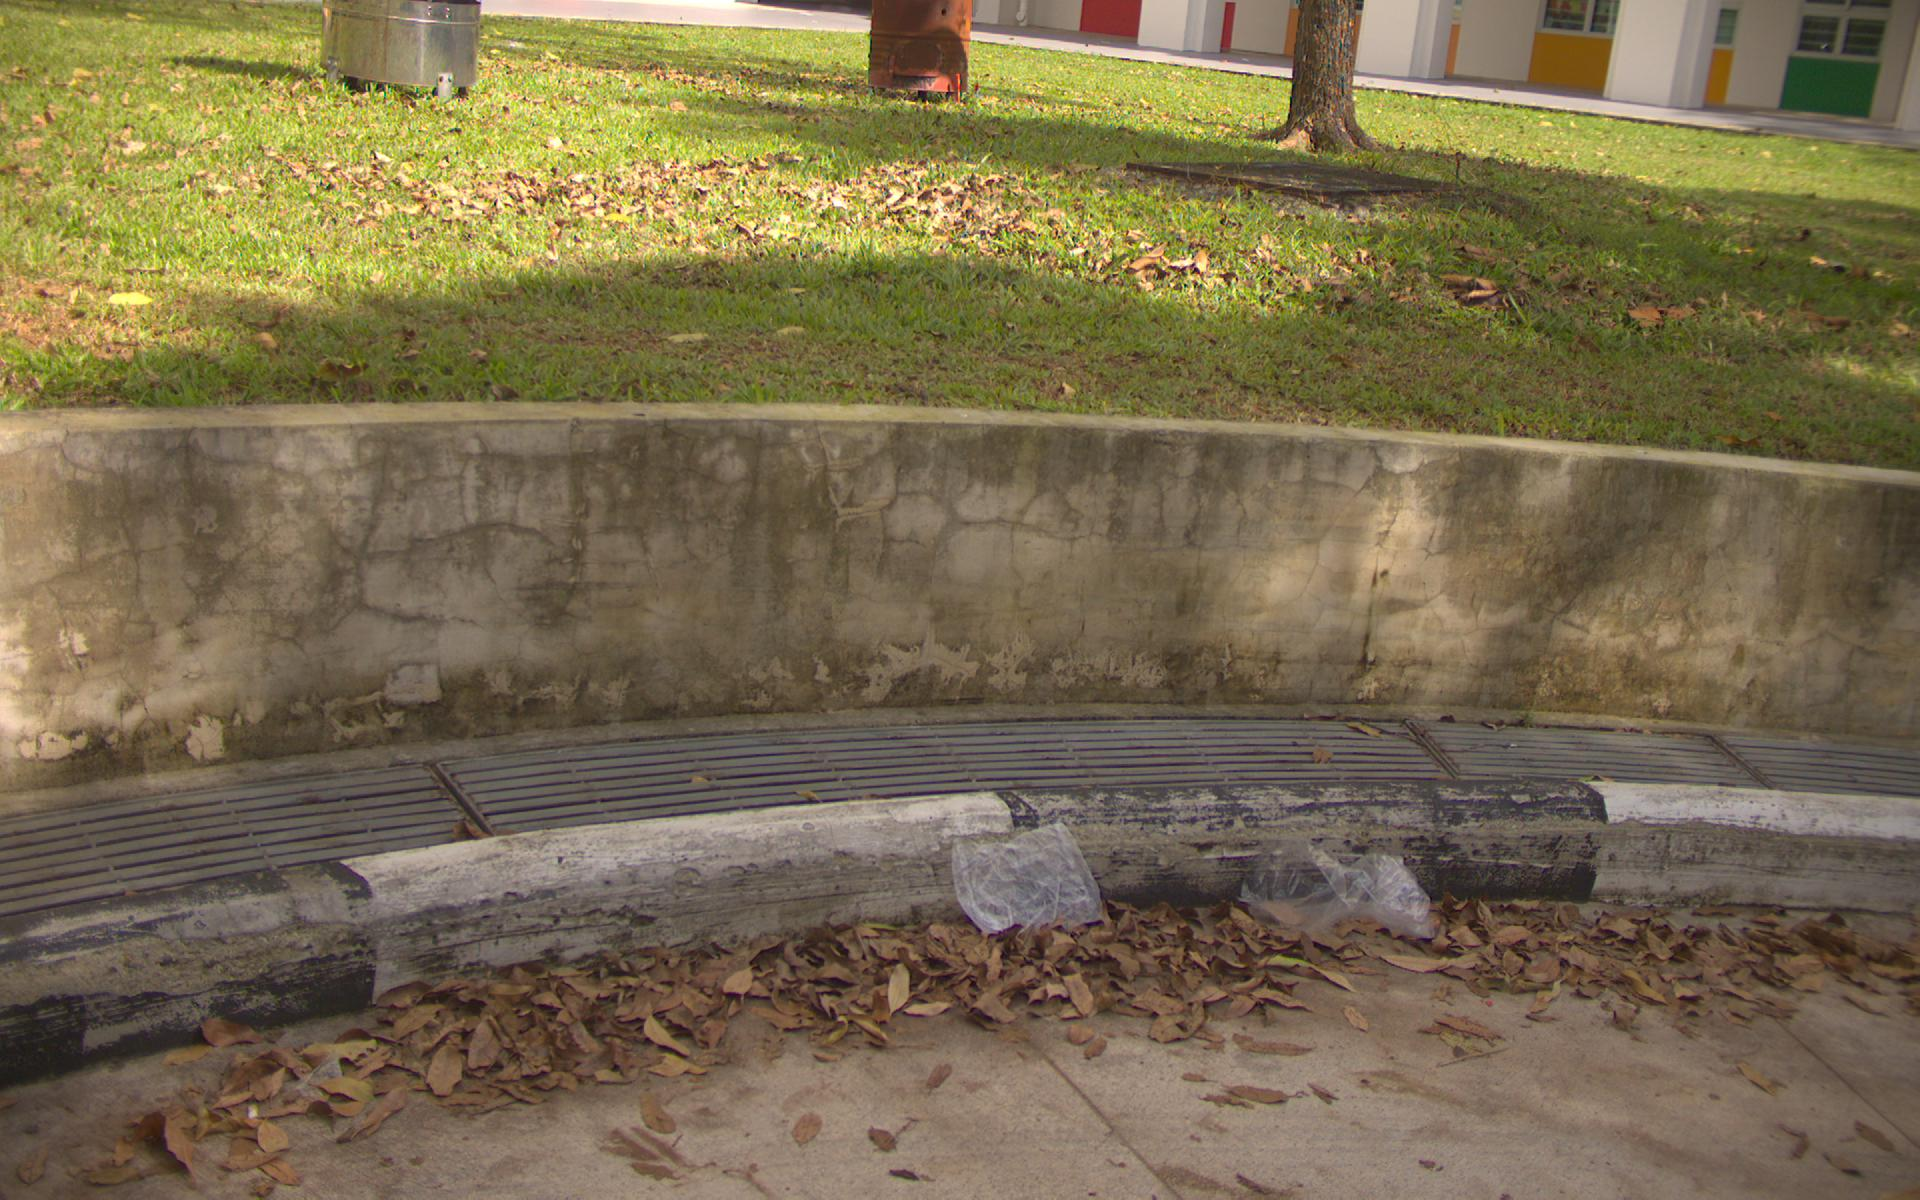curb_dic_low: (764, 701, 1920, 805)
road_curb_medium: (784, 875, 1920, 1053)
road_turf_low: (21, 88, 1920, 397)
